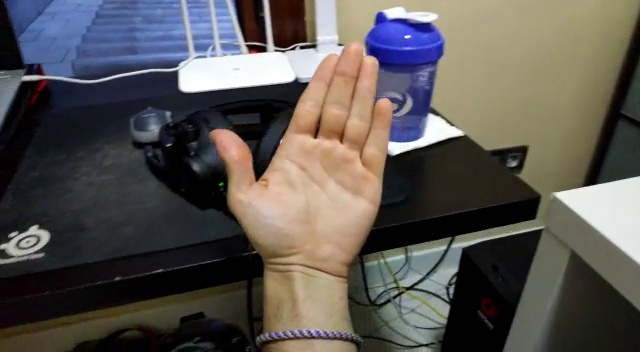Palm: (208, 42, 401, 264)
